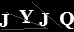J: (37, 12, 50, 27), (1, 13, 9, 27)
Q: (58, 11, 74, 29)
Y: (18, 9, 34, 24)
